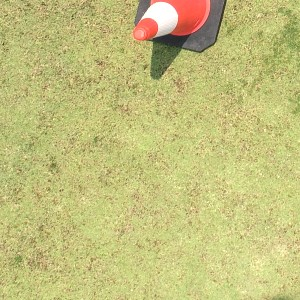traffic cone: (132, 1, 226, 52)
